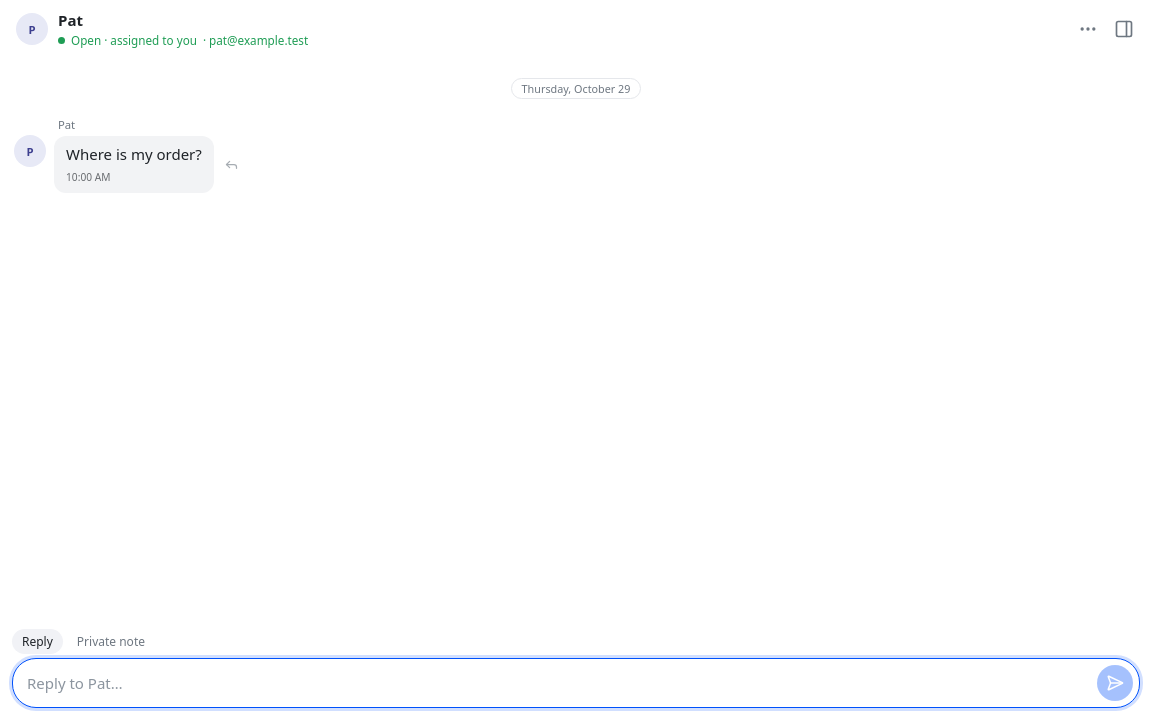
Scenario: ConversationView › replies to one of the customer's messages
Click the button named "Reply" at (232, 164), box [218,150,246,178]
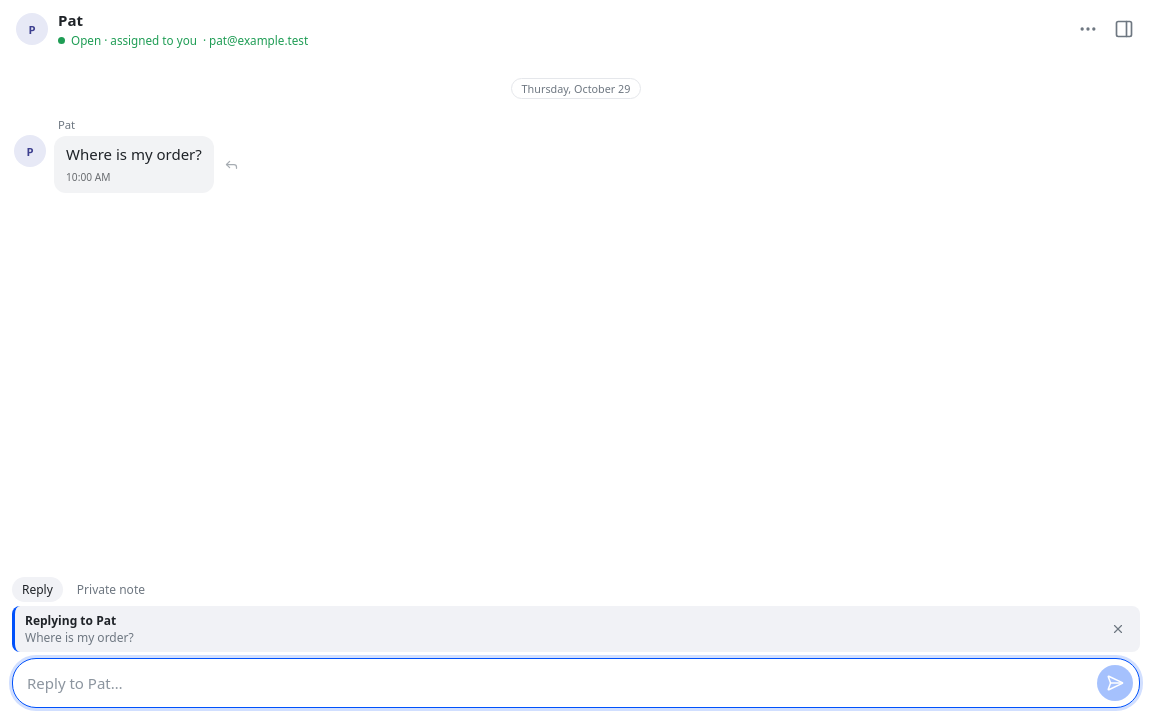
Check: the text "Replying to Pat" is shown, box [25,612,116,629]
Type "On its way" into the text box named "Message" at (558, 684), box [27,666,1089,701]
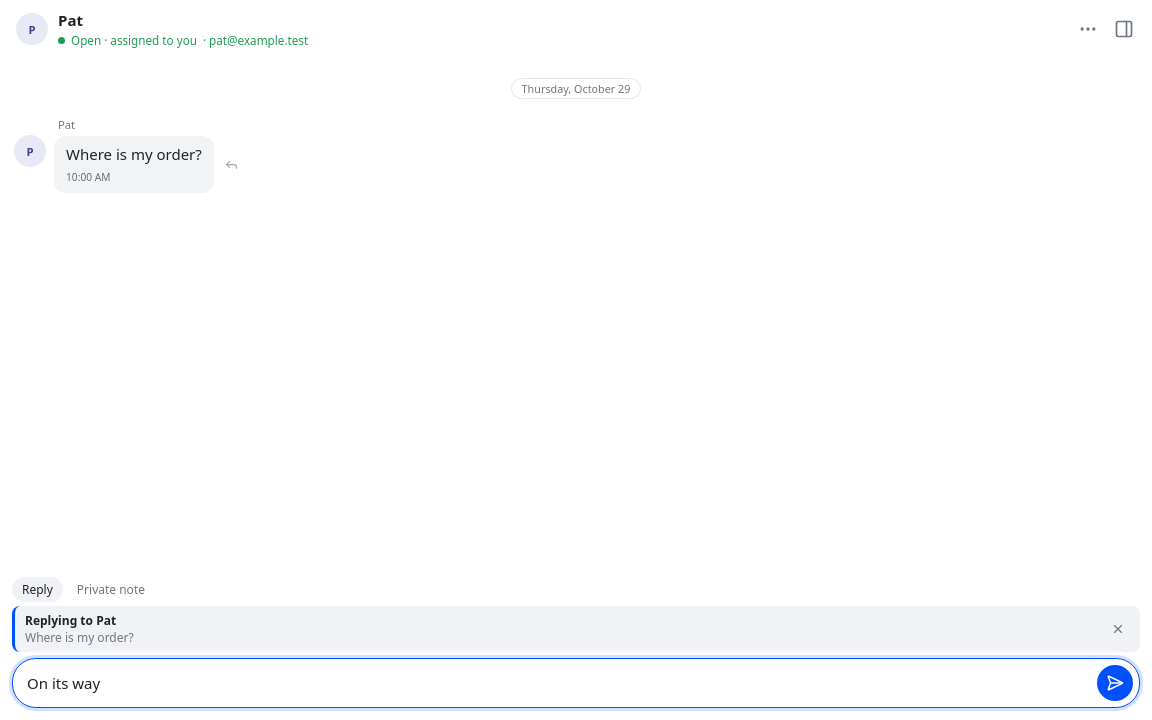
Press Enter in the text box named "Message", box [27,666,1089,701]
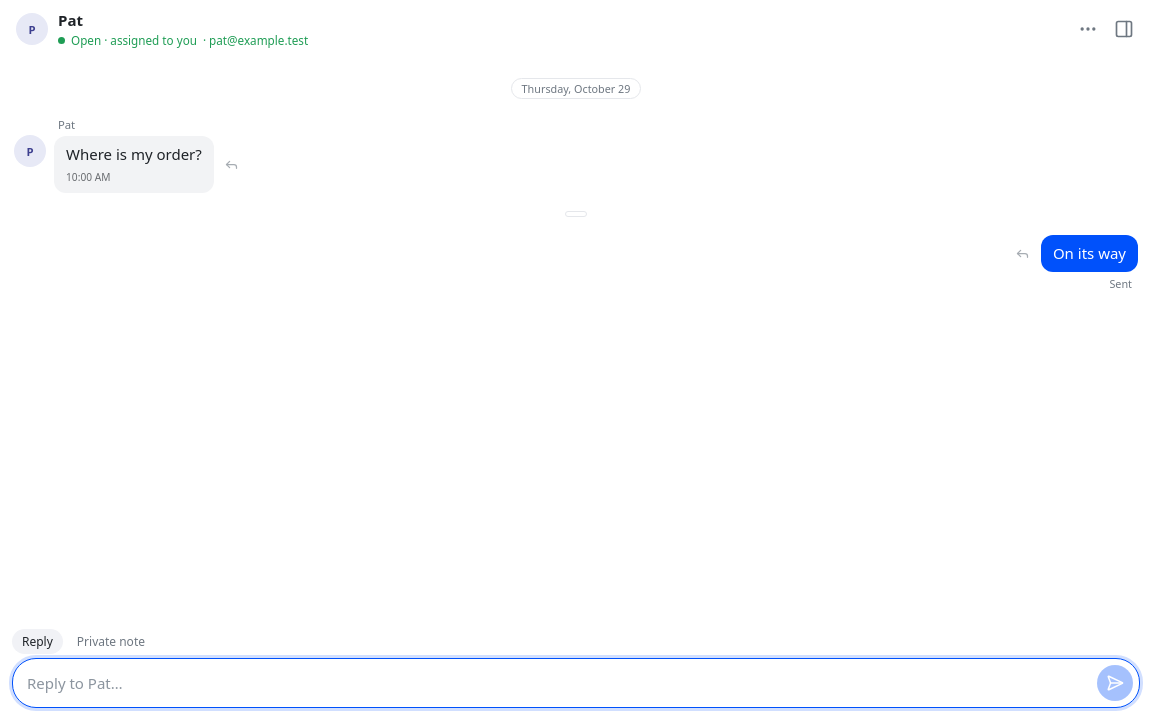
Check: the text "Replying to Pat" is gone
